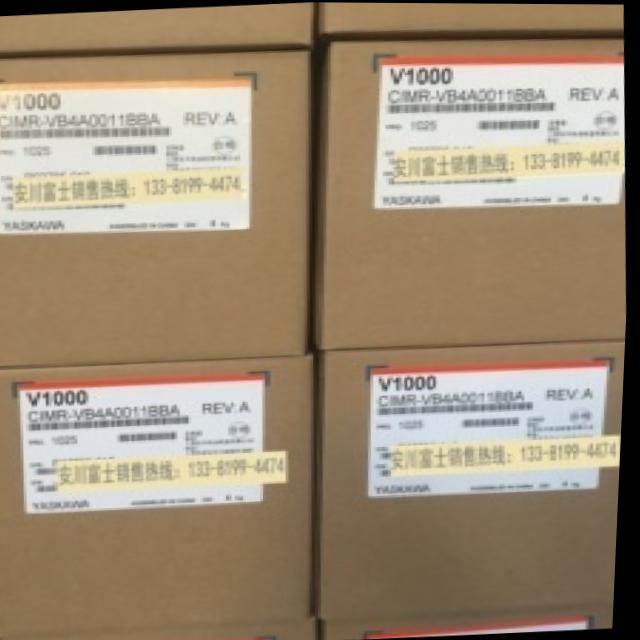box: (0, 51, 311, 368), (319, 38, 629, 349), (0, 353, 316, 637), (322, 341, 628, 618), (0, 2, 319, 57), (320, 2, 624, 40)
